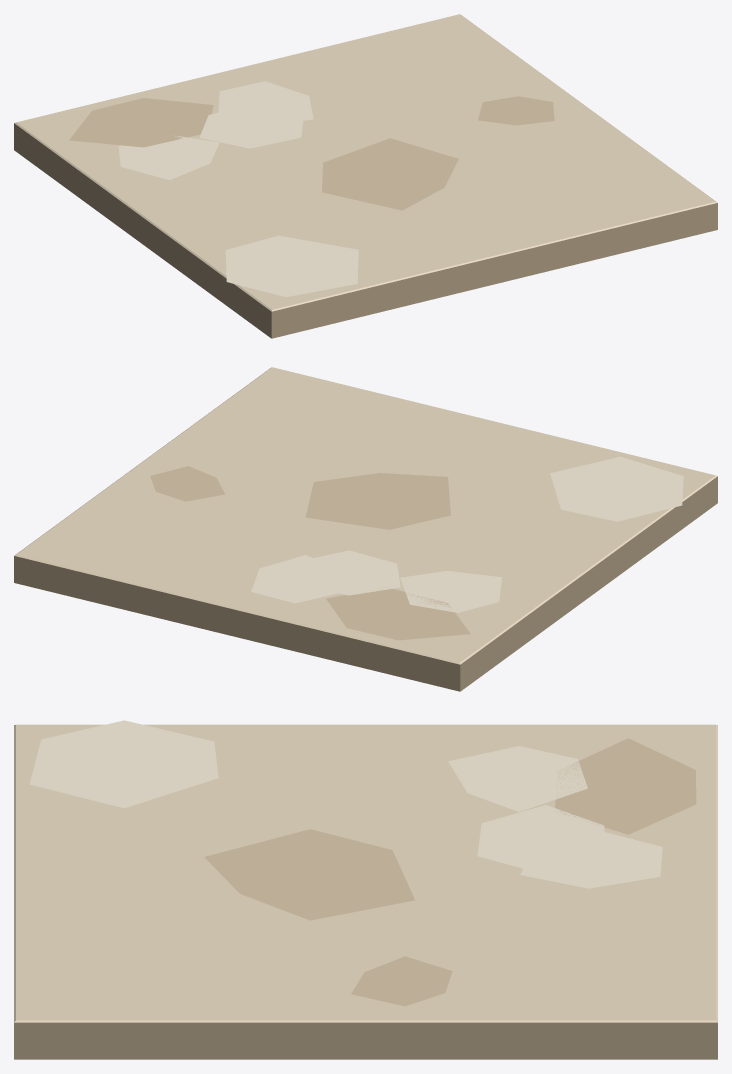
Rendered from wg_boden_teppich_b.glb.
The picture shows the model from 3 angles, top to bottom: view 1: azimuth 30°, elevation 25°; view 2: azimuth 150°, elevation 25°; view 3: azimuth 270°, elevation 25°; orthographic projection. The views are drawn at different scales.
Visible parts, largest first — view 1: wg_boden_teppich_b; view 2: wg_boden_teppich_b; view 3: wg_boden_teppich_b.
Part boxes in pixels (left/top/right/bottom): wg_boden_teppich_b: left=14, top=14, right=717, bottom=338; wg_boden_teppich_b: left=14, top=367, right=717, bottom=691; wg_boden_teppich_b: left=14, top=720, right=717, bottom=1059.
Bounding box in the file's own units: 1.01 × 0.0607 × 1.
